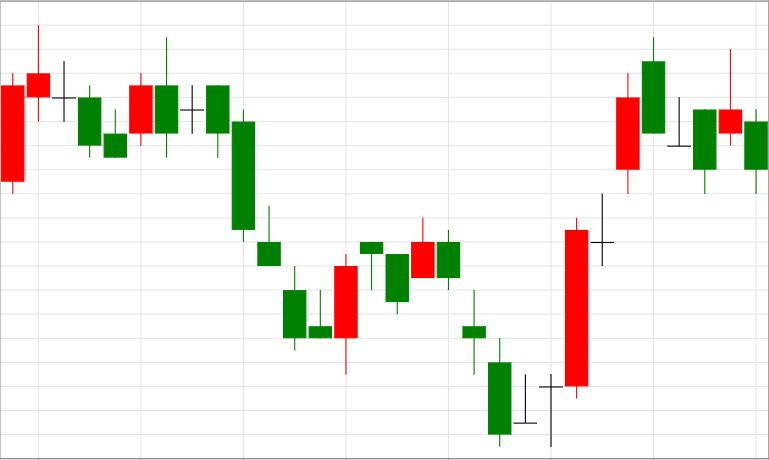bullish_engulfing_rise: (181, 84, 357, 376)
